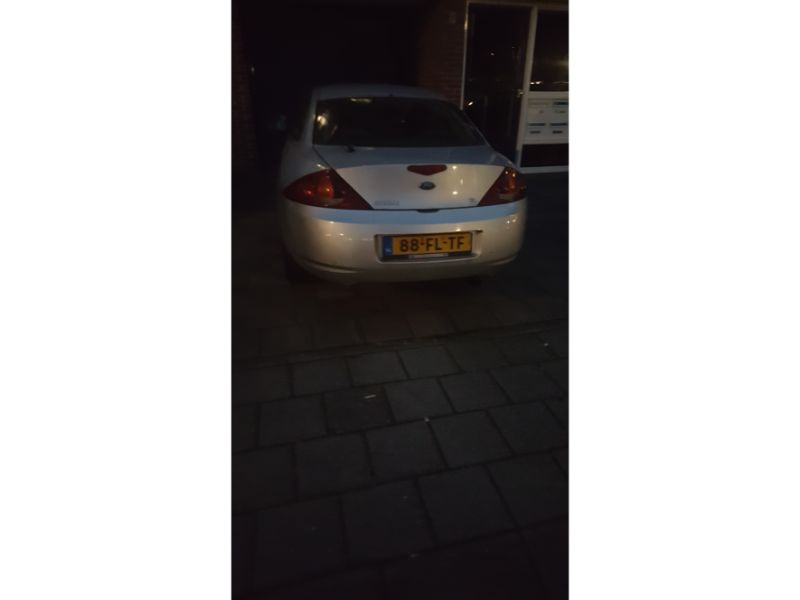kenteken: (376, 231, 476, 257)
